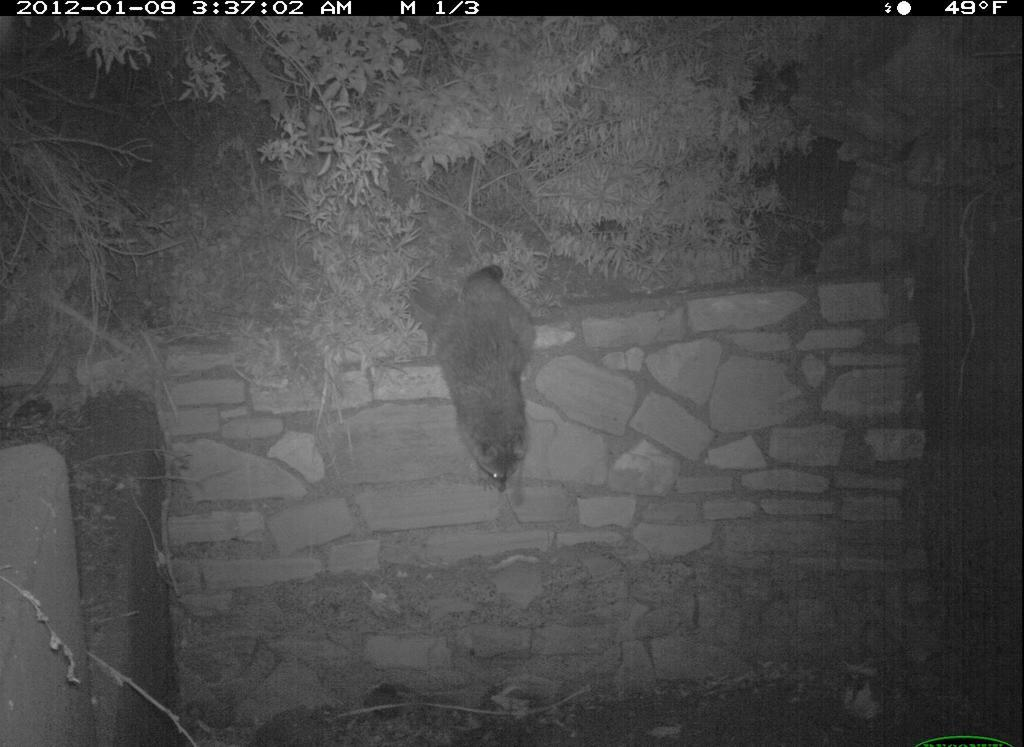raccoon: (405, 264, 542, 500)
